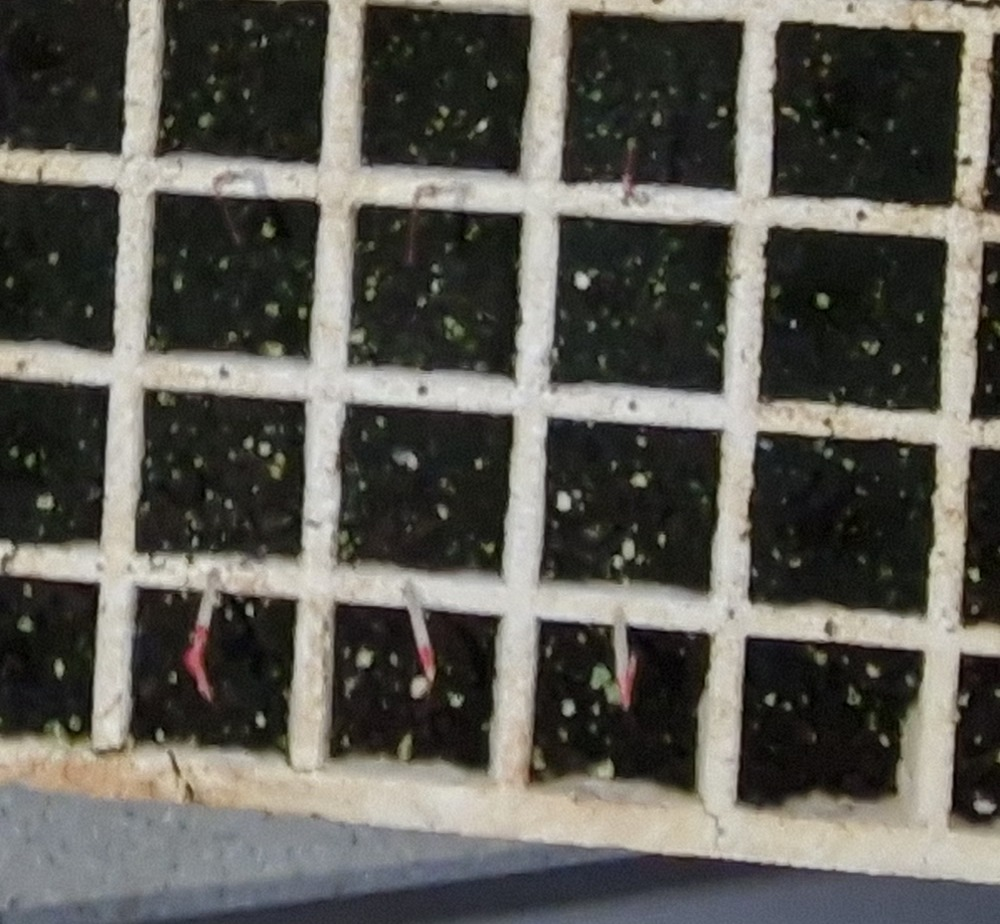Folha: (590, 666, 610, 688), (605, 683, 623, 704)
Germinacao: (589, 667, 624, 702)
